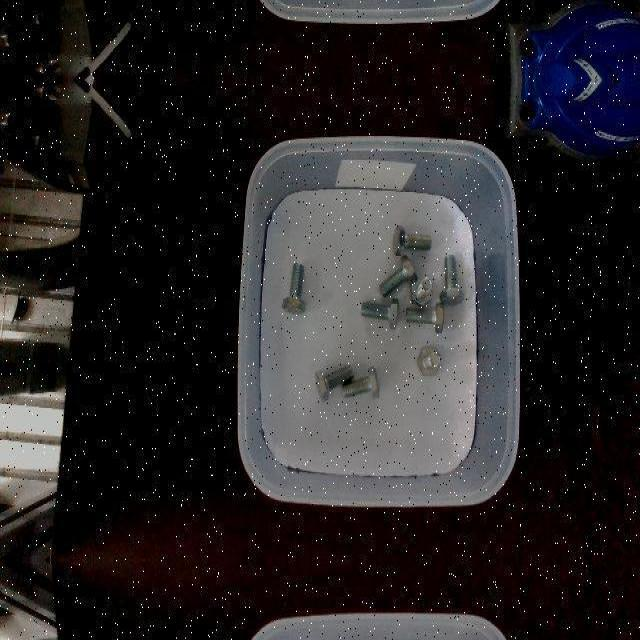screw: (379, 255, 417, 297), (315, 364, 354, 402), (438, 254, 464, 306), (281, 262, 306, 314), (342, 365, 379, 399), (359, 298, 399, 328), (393, 225, 432, 255), (405, 302, 444, 332), (411, 274, 434, 308), (417, 345, 442, 375)
